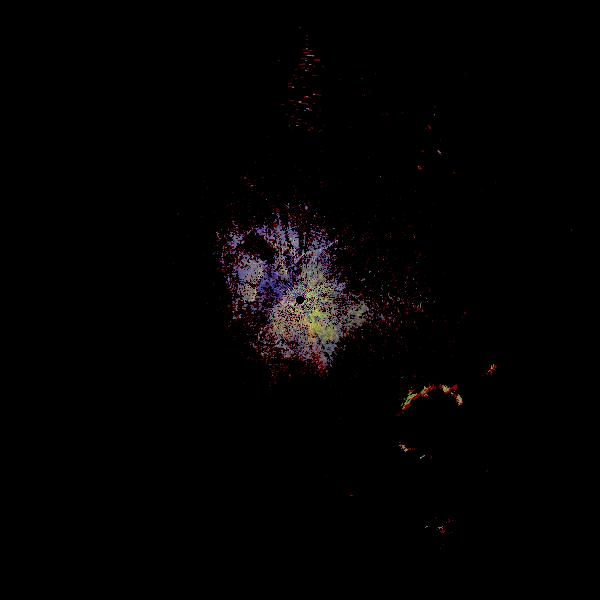roost: (383, 375, 488, 480)
